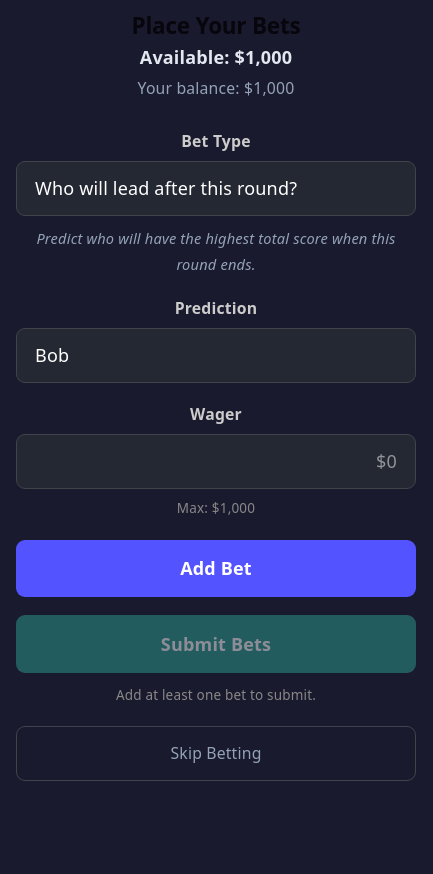
PlayerBettingPanel › Button states (Req 3.5, 3.6, 3.7, 3.8) › enables "Submit Bets" when at least one bet is placed
Note: Place a bet
Type "100" into the field labelled "Wager" at (216, 461), box x1=16 y1=434 x2=416 y2=489
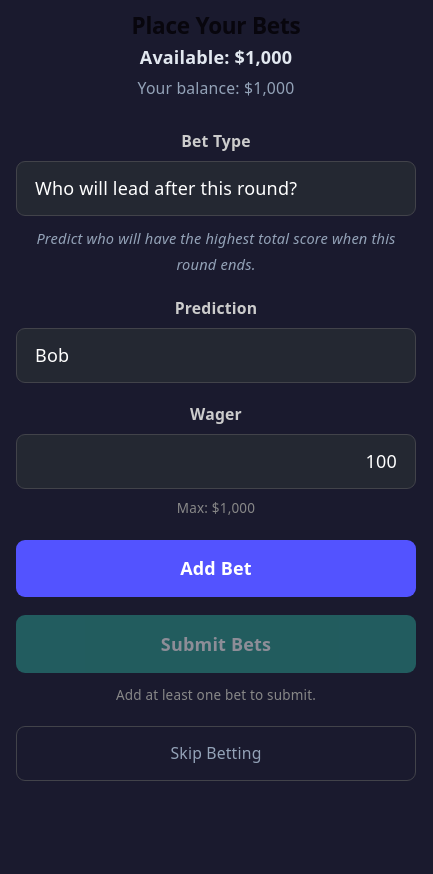
Click the button "Add Bet" at (216, 568), box x1=16 y1=540 x2=416 y2=597
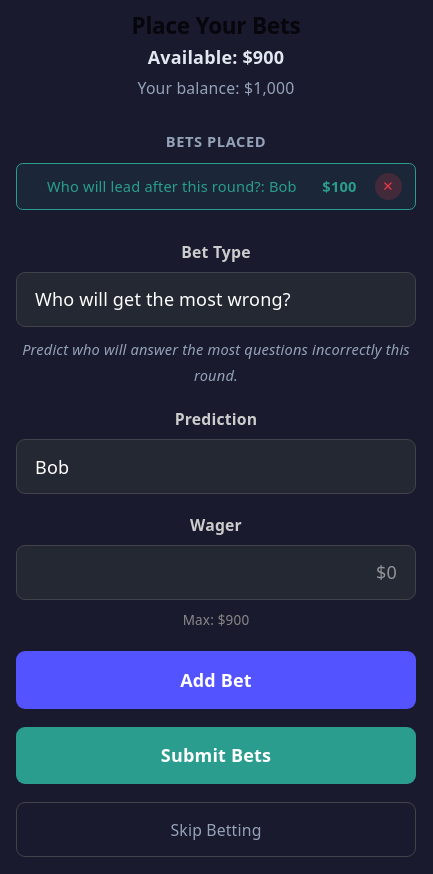
Expected: the button "Submit Bets" is enabled, x1=16 y1=726 x2=416 y2=784
